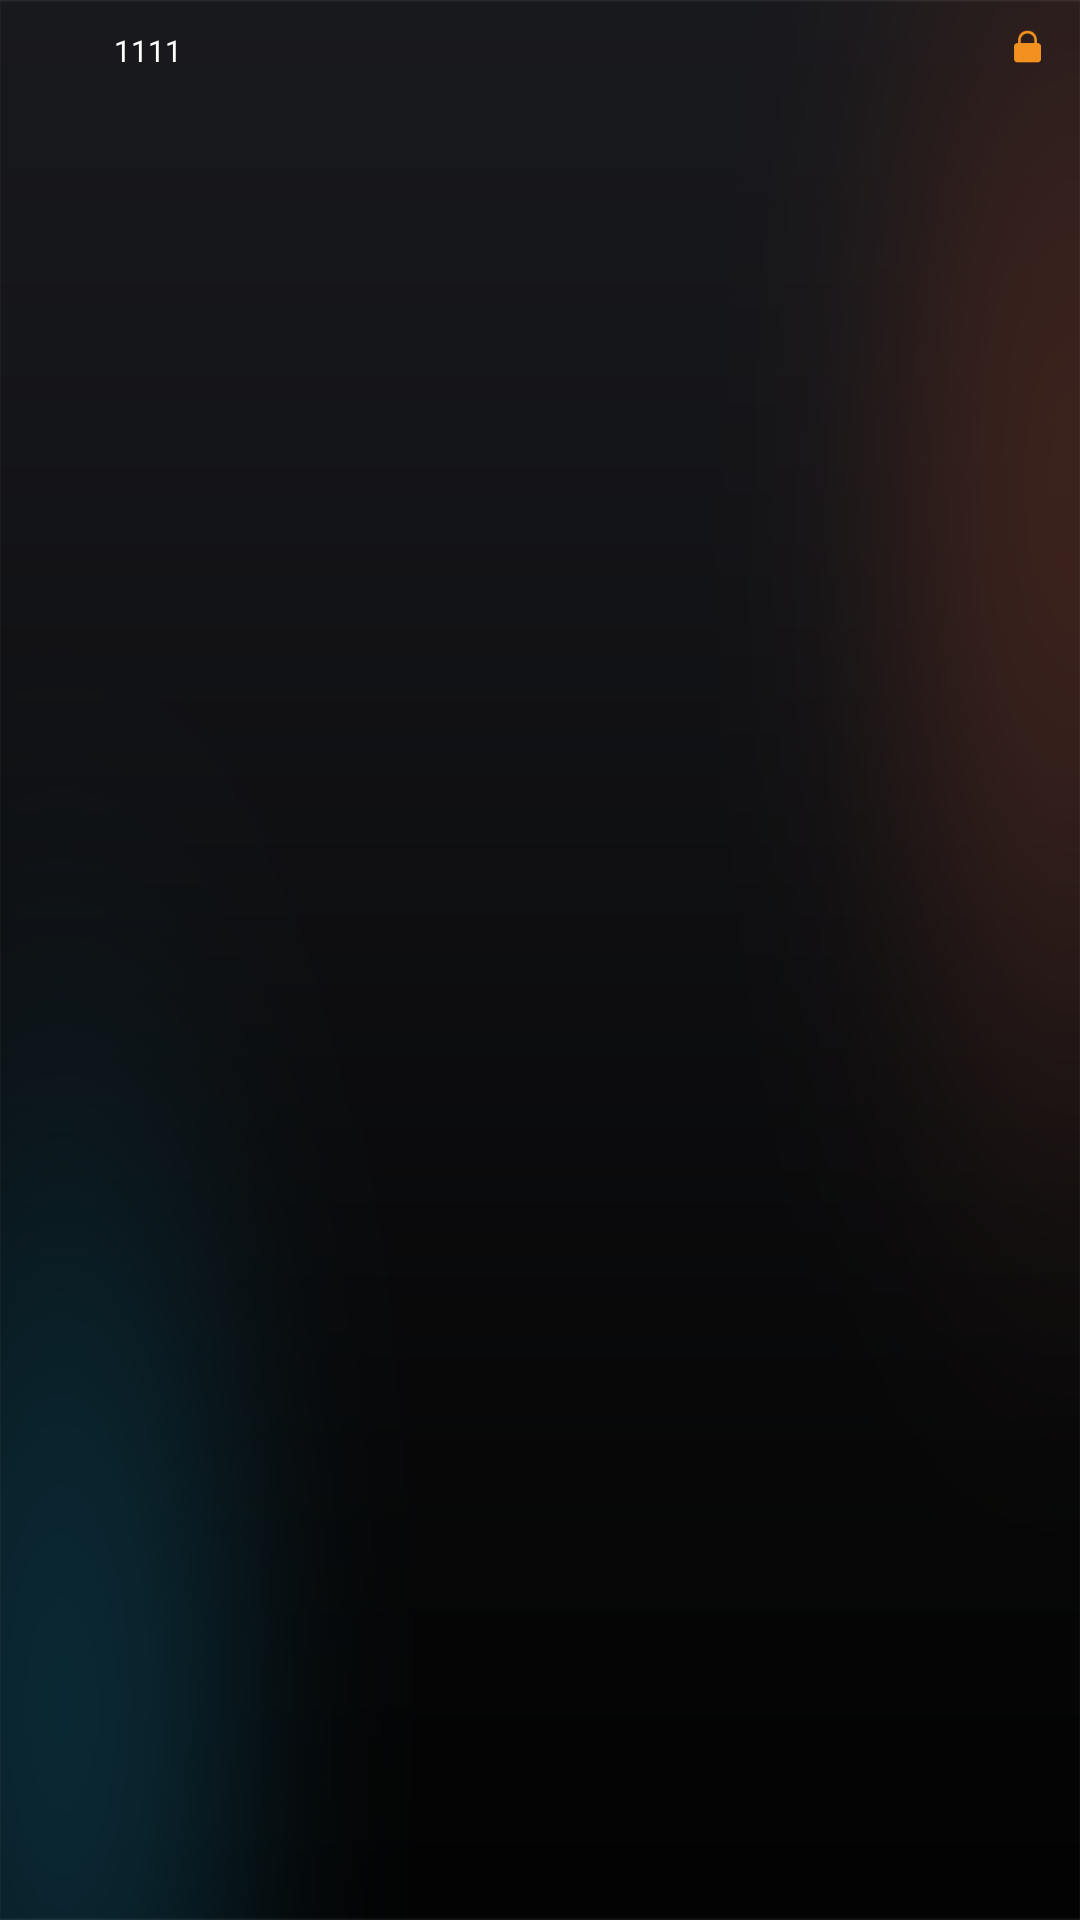

Where to tap for icons on this 1080×1920 app screen, as point (x, y):
lock: point (1027, 46)
